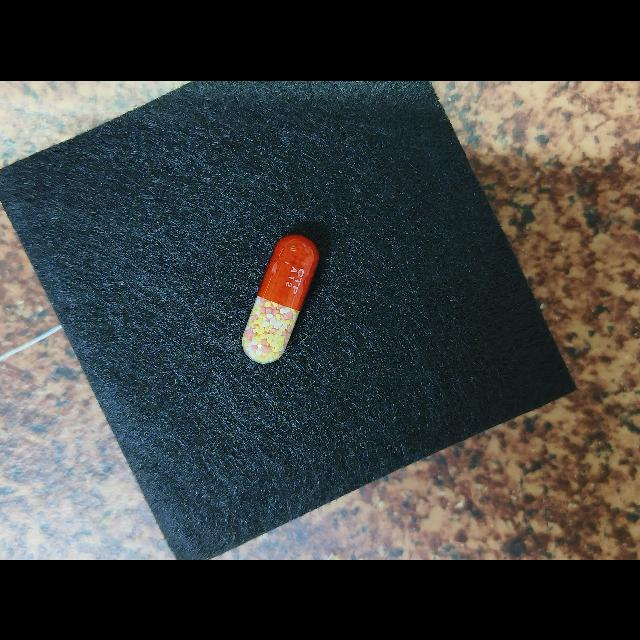Intact Capsule: (242, 234, 319, 363)
